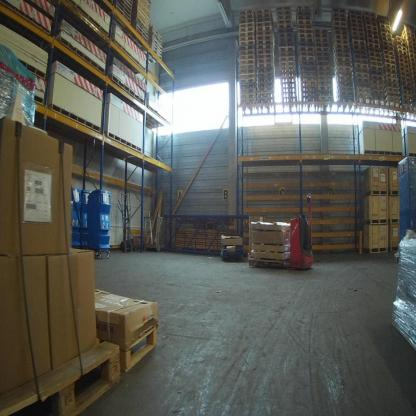pallet: (1, 336, 122, 415), (118, 321, 161, 385), (248, 257, 284, 270), (363, 189, 389, 197), (363, 218, 389, 225), (363, 246, 388, 253), (239, 63, 256, 71), (355, 91, 372, 99), (258, 66, 273, 75), (336, 96, 355, 103), (240, 93, 256, 101), (240, 87, 256, 95), (239, 58, 255, 66), (239, 44, 255, 52), (239, 26, 255, 34), (256, 43, 272, 51), (256, 25, 272, 33), (239, 21, 255, 29), (239, 17, 255, 25), (317, 79, 333, 87), (256, 8, 271, 16), (367, 50, 382, 58), (366, 41, 381, 49), (366, 37, 381, 45), (371, 93, 386, 101), (239, 69, 256, 76), (239, 49, 256, 56), (257, 97, 274, 104), (257, 92, 274, 99), (257, 82, 274, 89), (279, 51, 296, 58), (300, 75, 317, 82), (317, 90, 334, 97), (354, 82, 371, 89), (331, 20, 348, 27), (240, 83, 256, 90), (239, 78, 255, 85), (240, 73, 256, 80), (239, 54, 255, 61), (239, 40, 255, 47), (239, 35, 255, 42), (239, 31, 255, 38), (257, 62, 273, 69), (257, 57, 273, 64), (257, 53, 273, 60), (256, 48, 272, 55), (257, 34, 273, 41), (256, 29, 272, 36), (256, 21, 272, 28), (239, 13, 255, 20), (276, 14, 292, 21), (302, 90, 318, 97), (301, 85, 317, 92), (301, 70, 317, 77), (300, 60, 316, 67), (297, 18, 313, 25), (318, 95, 334, 102), (317, 85, 333, 92), (317, 69, 333, 76), (333, 38, 349, 45), (350, 39, 366, 46), (383, 62, 397, 70), (381, 44, 395, 52), (365, 24, 379, 32), (356, 97, 372, 104), (372, 98, 386, 106), (278, 46, 296, 52), (278, 42, 296, 48), (336, 92, 354, 98), (336, 87, 354, 93), (335, 72, 353, 78), (334, 61, 352, 67), (333, 52, 351, 58), (256, 13, 271, 20), (300, 50, 315, 57), (315, 50, 330, 57), (370, 78, 385, 85), (369, 64, 384, 71), (368, 60, 383, 67), (368, 55, 383, 62), (385, 96, 400, 103), (385, 92, 400, 99), (381, 40, 394, 48), (380, 35, 393, 43), (257, 88, 274, 94), (280, 70, 297, 76), (279, 57, 296, 63), (313, 37, 330, 43), (337, 82, 354, 88), (336, 77, 353, 83), (354, 88, 371, 94), (352, 63, 369, 69), (333, 34, 350, 40), (332, 30, 349, 36), (282, 76, 296, 83), (300, 40, 314, 47), (371, 89, 385, 96), (370, 74, 384, 81), (367, 46, 381, 53), (386, 101, 400, 108), (385, 87, 399, 94), (384, 72, 398, 79), (383, 58, 397, 65), (382, 54, 396, 61), (365, 28, 379, 35), (363, 15, 377, 22), (240, 99, 256, 105), (258, 73, 274, 79), (256, 39, 272, 45), (239, 9, 255, 15), (278, 33, 294, 39), (277, 28, 293, 34), (277, 23, 293, 29), (276, 10, 292, 16), (276, 6, 292, 12), (300, 66, 316, 72), (300, 55, 316, 61), (298, 28, 314, 34), (314, 42, 330, 48), (354, 73, 370, 79), (351, 49, 367, 55), (332, 25, 348, 31), (350, 35, 366, 41), (348, 18, 364, 24), (385, 82, 398, 89), (385, 77, 398, 84), (384, 67, 397, 74), (382, 49, 395, 56), (365, 20, 378, 27), (379, 31, 392, 38), (379, 27, 392, 34), (256, 17, 271, 23), (279, 66, 297, 71), (282, 92, 297, 98), (282, 96, 297, 102), (302, 96, 317, 102), (317, 65, 332, 71), (316, 60, 331, 66), (315, 46, 330, 52), (369, 70, 384, 76), (348, 14, 363, 20), (348, 9, 363, 15), (400, 75, 411, 83), (399, 61, 410, 69), (397, 48, 408, 56), (279, 62, 296, 67), (334, 57, 351, 62), (333, 48, 350, 53), (333, 44, 350, 49), (352, 59, 369, 64), (351, 55, 368, 60), (350, 45, 367, 50), (282, 87, 296, 93), (282, 81, 296, 87), (300, 46, 314, 52), (299, 32, 313, 38), (314, 28, 328, 34), (371, 84, 385, 90), (379, 23, 391, 30), (402, 99, 414, 106), (400, 80, 412, 87), (257, 78, 273, 83), (278, 38, 294, 43), (277, 19, 293, 24), (301, 81, 317, 86), (317, 75, 333, 80), (313, 33, 329, 38), (354, 78, 370, 83), (353, 68, 369, 73), (331, 17, 347, 22), (349, 31, 365, 36), (349, 27, 365, 32), (349, 23, 365, 28), (297, 5, 310, 11), (366, 33, 379, 39), (401, 84, 412, 91), (399, 66, 410, 73), (398, 57, 409, 64), (397, 45, 408, 52), (297, 14, 312, 19), (316, 56, 331, 61), (331, 12, 346, 17), (402, 104, 414, 110), (401, 89, 413, 95), (397, 53, 409, 59), (299, 37, 313, 42), (297, 10, 311, 15), (396, 40, 406, 47), (395, 35, 405, 42), (389, 190, 400, 196), (405, 33, 416, 39), (298, 24, 313, 28), (331, 9, 346, 13), (400, 71, 410, 77), (406, 36, 416, 42), (408, 44, 416, 51), (389, 219, 400, 224), (402, 96, 413, 101), (402, 92, 413, 97), (389, 245, 398, 251), (407, 40, 416, 46), (408, 48, 416, 54), (409, 56, 416, 62), (409, 52, 416, 58), (410, 61, 416, 65)
pallet_truck: (285, 191, 314, 270)
